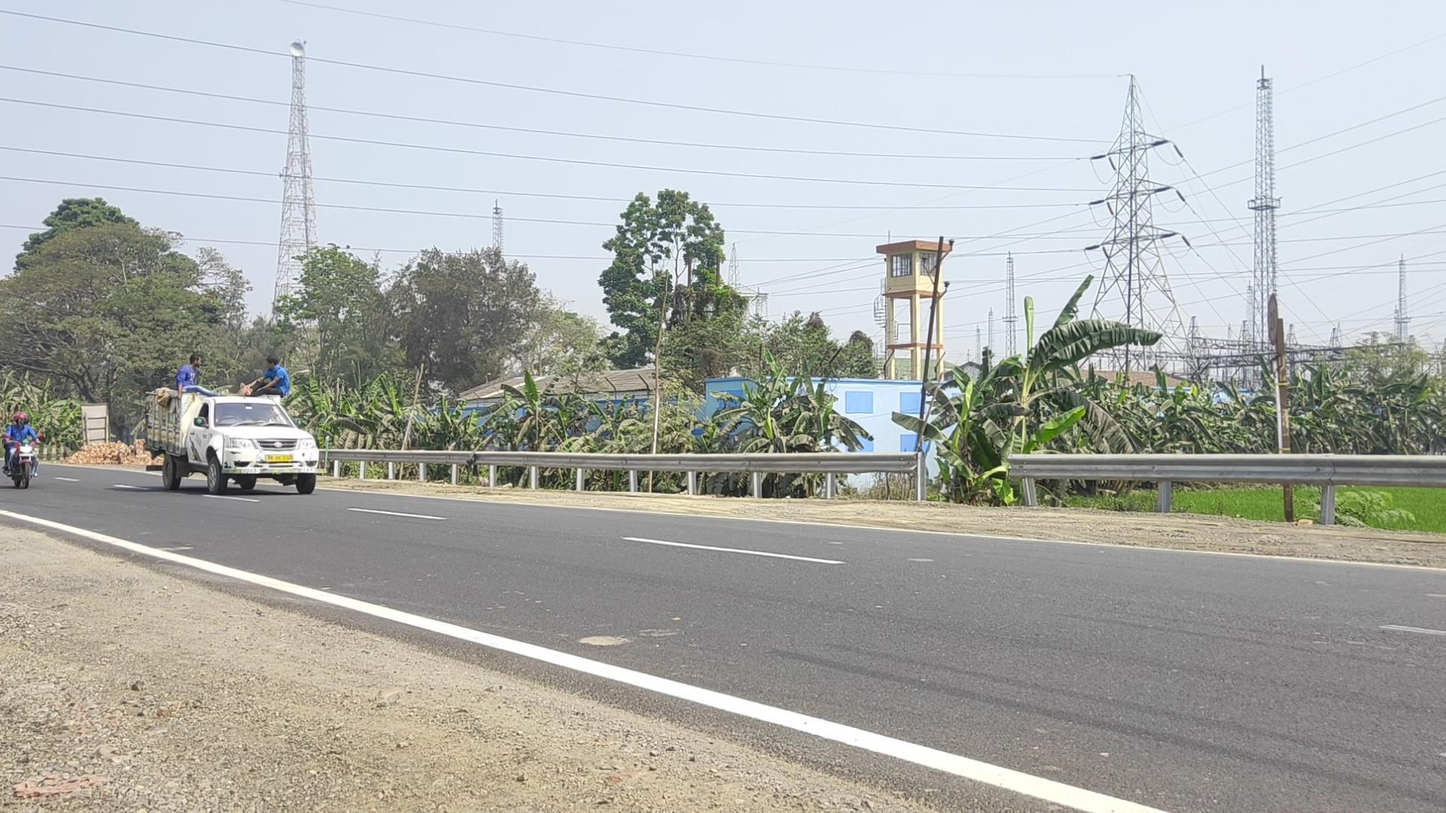bike: (2, 411, 43, 489)
van: (142, 354, 319, 496)
